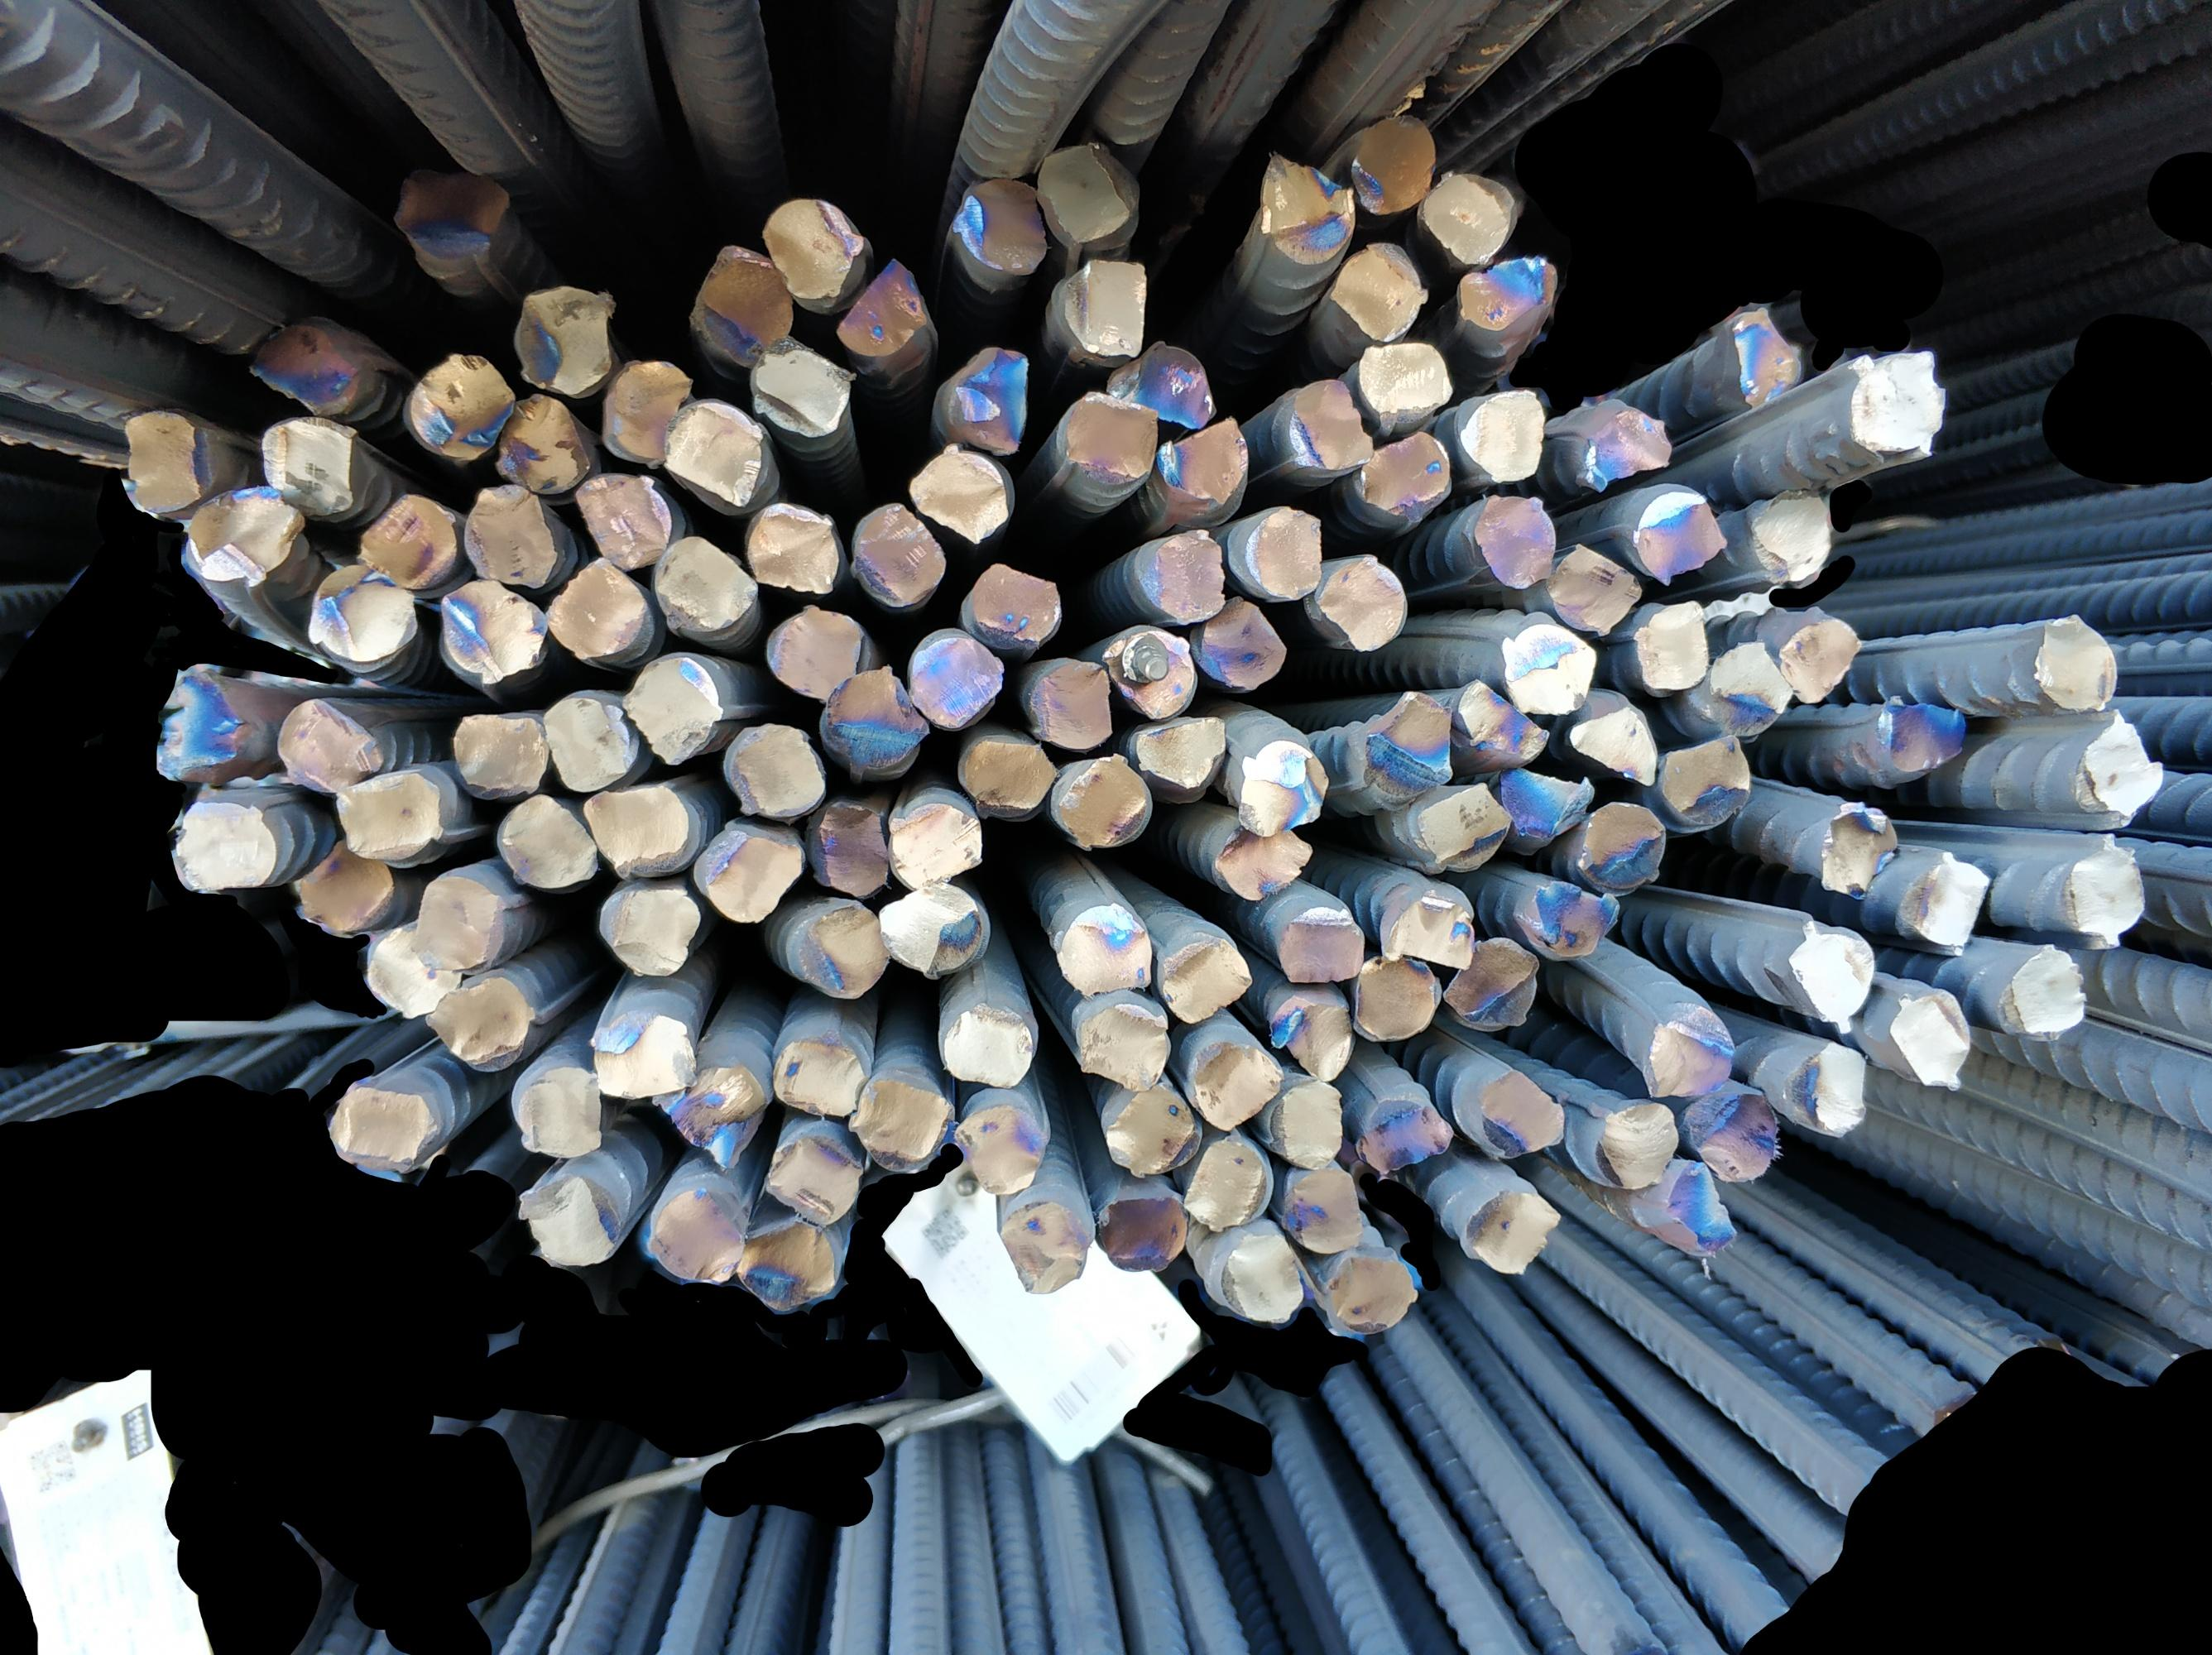bar: (683, 240, 796, 365), (389, 163, 507, 269), (662, 395, 768, 513), (822, 662, 926, 781), (405, 342, 509, 459), (302, 558, 419, 662), (1785, 913, 1880, 1038), (622, 652, 723, 770), (761, 193, 867, 304), (652, 1059, 756, 1172), (511, 282, 613, 396), (188, 483, 306, 582), (540, 556, 650, 661), (878, 878, 992, 977), (438, 575, 544, 681), (751, 336, 853, 445), (942, 339, 1036, 457), (947, 170, 1051, 276), (1036, 139, 1140, 245), (1685, 635, 1793, 737), (243, 318, 365, 409), (1258, 150, 1355, 263), (422, 974, 537, 1069), (295, 833, 398, 939), (591, 1003, 700, 1102), (730, 1213, 841, 1311), (492, 389, 593, 495), (1630, 478, 1729, 586), (1847, 348, 1946, 455), (1107, 339, 1220, 433), (276, 694, 379, 796), (172, 794, 275, 897), (700, 824, 803, 927), (645, 1180, 745, 1285), (653, 532, 759, 631), (907, 443, 1013, 542), (462, 480, 558, 589), (1894, 847, 1990, 956), (334, 767, 445, 861), (255, 412, 358, 513), (846, 1074, 949, 1175), (905, 629, 1008, 730), (573, 468, 672, 572), (497, 793, 601, 892), (1055, 256, 1152, 362), (325, 1080, 438, 1170), (794, 901, 895, 1001), (725, 721, 827, 821), (516, 1172, 620, 1269), (883, 796, 987, 894), (1043, 751, 1149, 847), (765, 603, 864, 704), (1328, 240, 1427, 341), (354, 492, 457, 589), (594, 883, 699, 979), (836, 252, 930, 358), (1364, 688, 1458, 794), (1498, 619, 1597, 718), (1423, 163, 1519, 266), (151, 671, 242, 779), (584, 784, 692, 874), (1571, 398, 1679, 489), (603, 355, 690, 466), (361, 927, 467, 1017), (116, 403, 203, 513), (540, 694, 638, 791), (1995, 942, 2092, 1040), (1571, 690, 1663, 793), (851, 499, 942, 603), (1348, 111, 1439, 216), (1053, 901, 1150, 996), (744, 499, 839, 596), (1154, 412, 1249, 509), (1189, 1034, 1282, 1133), (1235, 737, 1328, 838), (1414, 779, 1515, 871), (2085, 709, 2167, 822), (1103, 1081, 1197, 1179), (410, 871, 502, 970), (1458, 384, 1550, 483), (1135, 527, 1229, 622), (1661, 734, 1757, 827), (763, 1135, 860, 1227), (2070, 831, 2144, 951), (1197, 595, 1288, 694), (957, 730, 1058, 819), (1519, 871, 1619, 960), (2031, 610, 2120, 711), (1812, 798, 1897, 902), (1348, 334, 1454, 417), (1682, 1088, 1778, 1180), (1072, 1000, 1169, 1090), (1102, 621, 1192, 718), (1058, 388, 1156, 478), (1776, 612, 1864, 711), (448, 708, 549, 794), (1446, 932, 1536, 1027), (1319, 553, 1407, 650), (1474, 485, 1557, 588), (952, 1100, 1044, 1193), (1576, 796, 1668, 888), (1546, 541, 1637, 635), (1465, 1187, 1560, 1276), (1289, 374, 1376, 471), (1891, 986, 1970, 1090), (1183, 1137, 1272, 1231), (940, 1001, 1034, 1090), (1324, 1250, 1418, 1339), (1216, 1229, 1303, 1325), (768, 1034, 865, 1120), (999, 1194, 1084, 1292), (813, 794, 891, 899), (1456, 678, 1550, 765), (1133, 711, 1232, 793), (1496, 761, 1595, 843), (1357, 1090, 1456, 1172), (1791, 1034, 1870, 1137), (1027, 659, 1116, 749), (518, 1066, 605, 1158), (1161, 935, 1255, 1020), (1242, 504, 1326, 600), (1453, 252, 1553, 330), (1729, 304, 1807, 405), (1592, 1095, 1679, 1186), (1213, 824, 1315, 901), (1355, 428, 1449, 511), (1752, 487, 1835, 581), (1378, 888, 1474, 970), (1355, 949, 1440, 1040), (1642, 1014, 1734, 1097), (1665, 1160, 1741, 1259), (971, 560, 1060, 645), (1281, 1166, 1366, 1255), (1480, 1066, 1564, 1156), (1268, 991, 1350, 1081), (1875, 695, 1967, 775), (1098, 1189, 1183, 1273), (1275, 902, 1361, 986), (1637, 598, 1712, 690), (1272, 1080, 1343, 1172)
